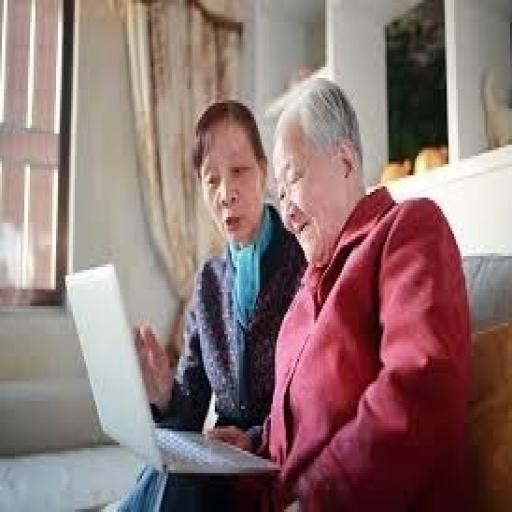using_laptop: (62, 258, 280, 478)
